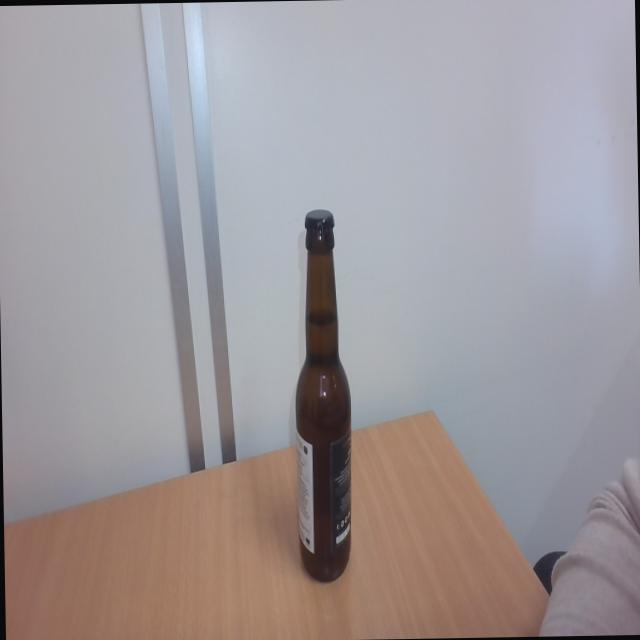Bottle: (292, 236, 354, 585)
Cap: (303, 208, 337, 238)
Label: (296, 431, 352, 560)
